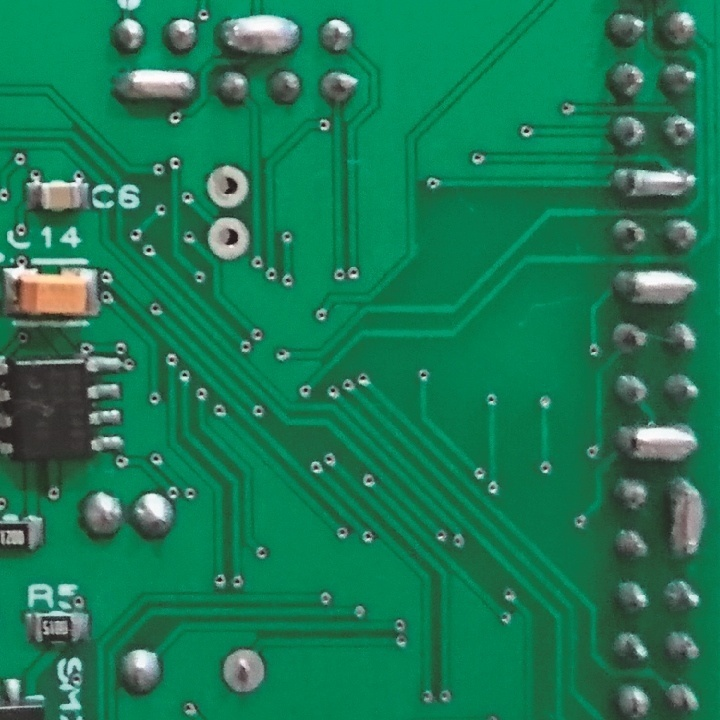F: (219, 647, 271, 697), (204, 163, 253, 210), (204, 216, 253, 263)
P: (613, 265, 700, 315), (214, 13, 304, 60), (664, 472, 708, 566), (113, 66, 198, 112), (611, 162, 700, 204), (614, 420, 702, 460)
